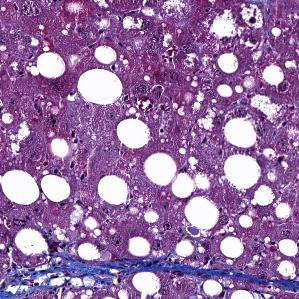fibrosis: (48, 253, 140, 281)
